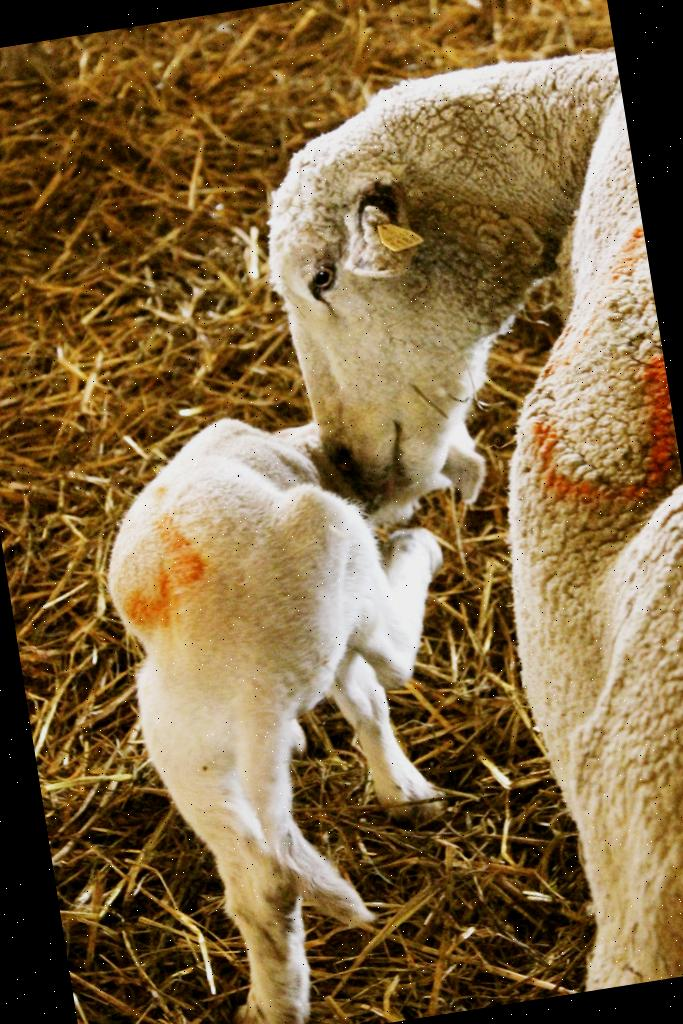Sheep: (234, 35, 683, 1023), (90, 377, 558, 1024)
